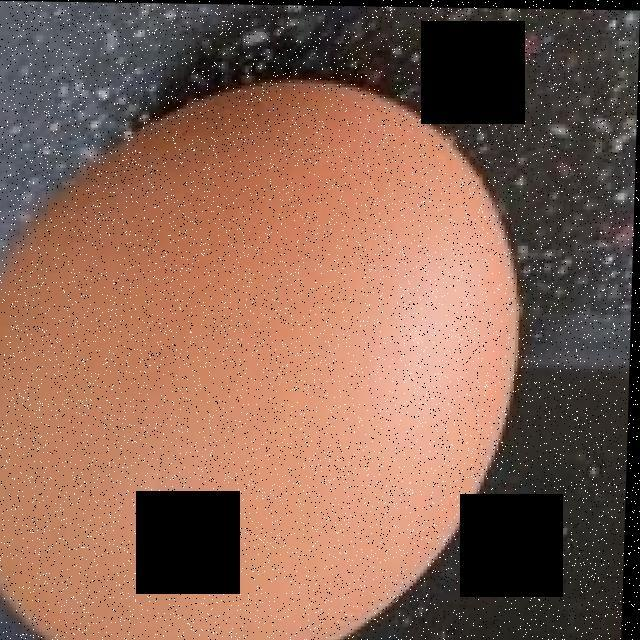egg: (4, 83, 508, 632)
